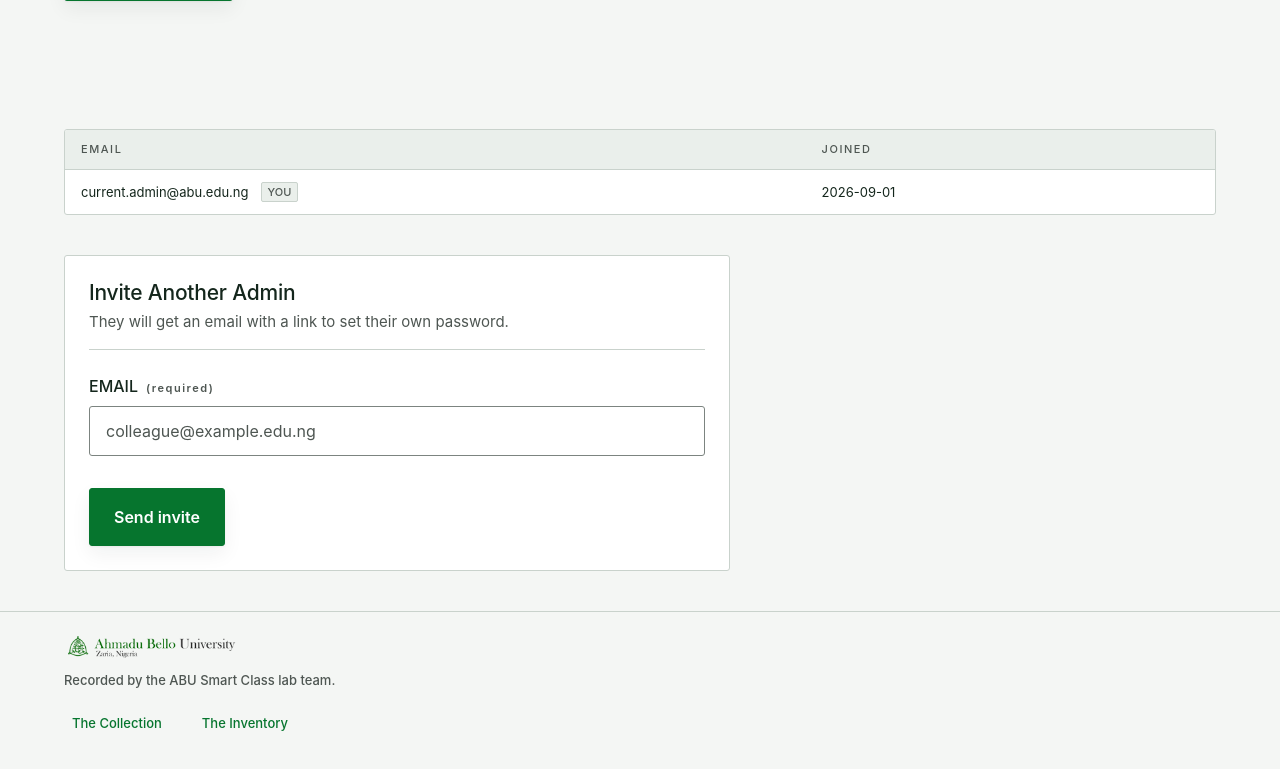
S-05 Challenger Suite — M2 Pre-Agreed Seams › Seam 1: S-008 Admin Team Management & Invites (app/admin/admins/page.tsx & lib/admin-api.ts) › rapid double-click on Send invite button is prevented while submitting
(page scrolled)
Type "rapid@abu.edu.ng" into the field with placeholder "colleague@example.edu.ng".
click(397, 431); type("rapid@abu.edu.ng")  # box [89,406,705,456]
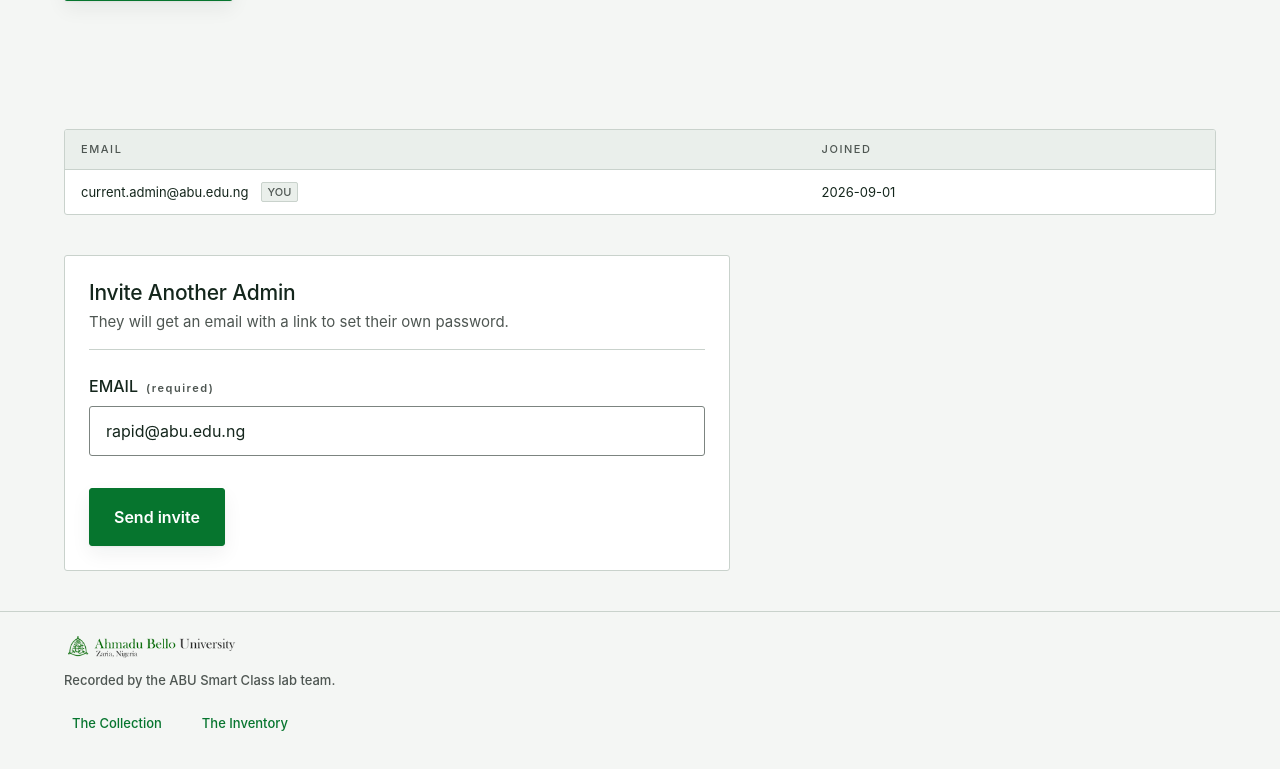
Click the button "Send invite".
click(157, 517)  # box [89,488,225,546]
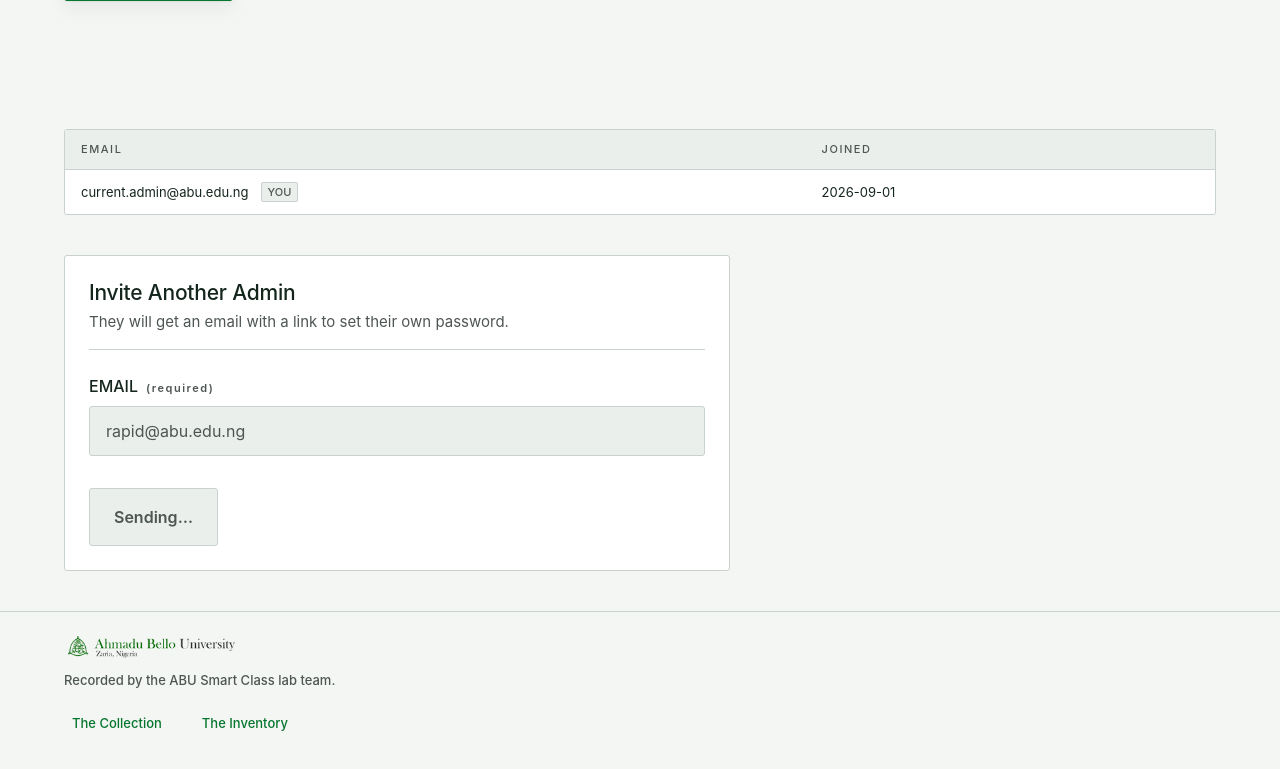
Click the button named "Send invite".
click(153, 517)  # box [89,488,218,546]
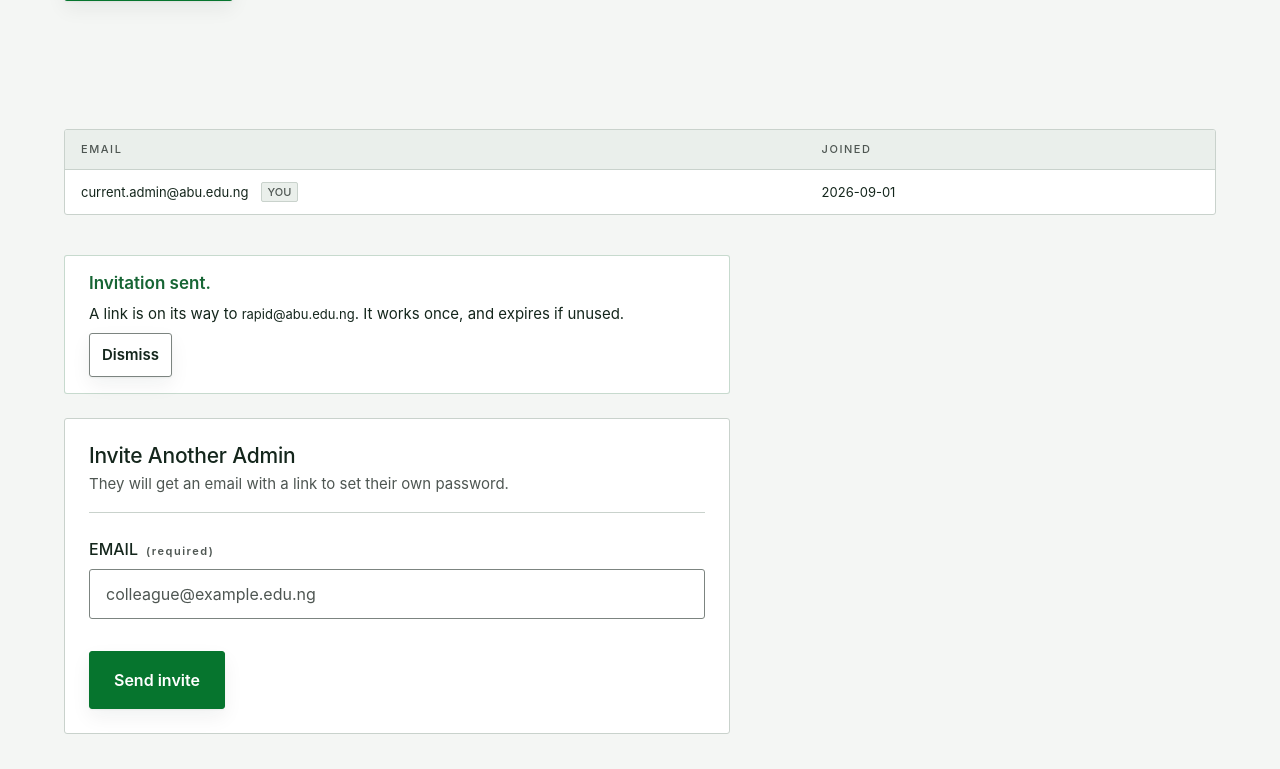
Result: the heading "Invitation sent." is shown at [89,273,211,293]
